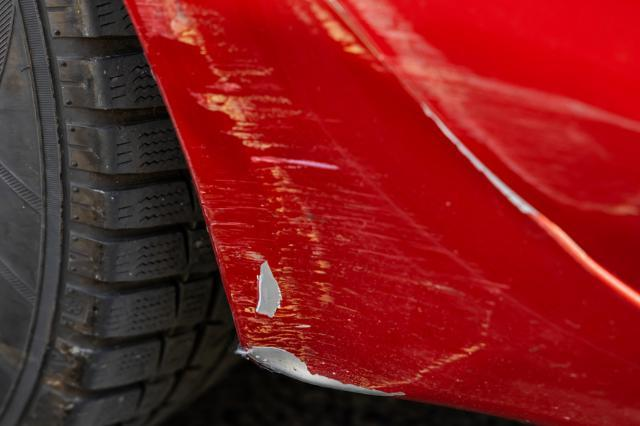Bumper: (122, 0, 640, 426)
